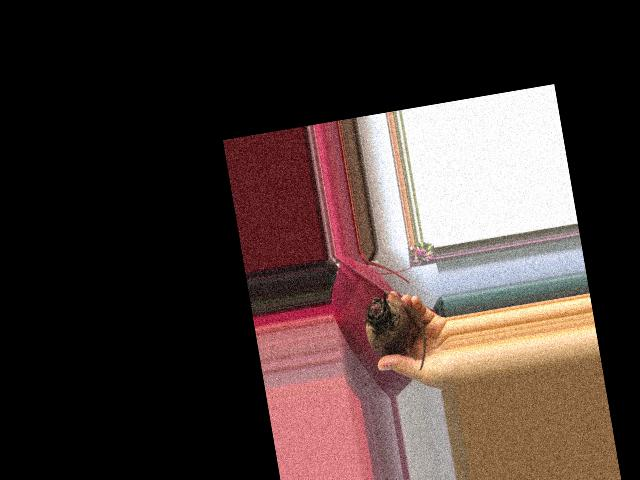beet: (359, 284, 430, 378)
